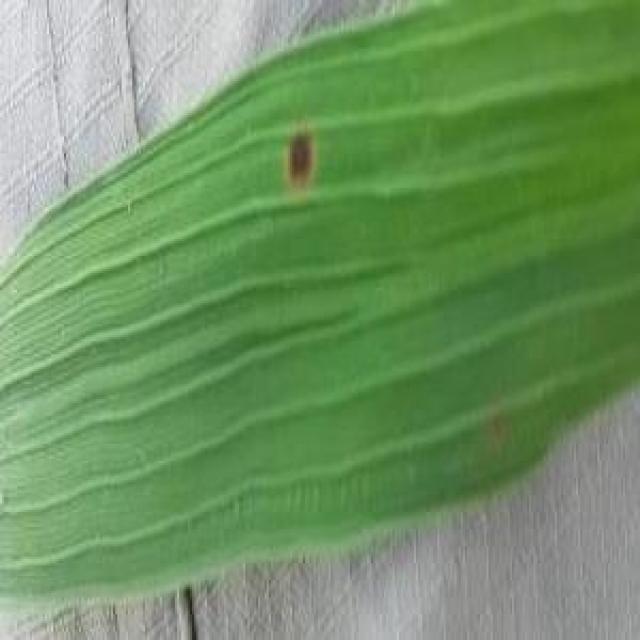brownspots: (270, 124, 324, 188)
